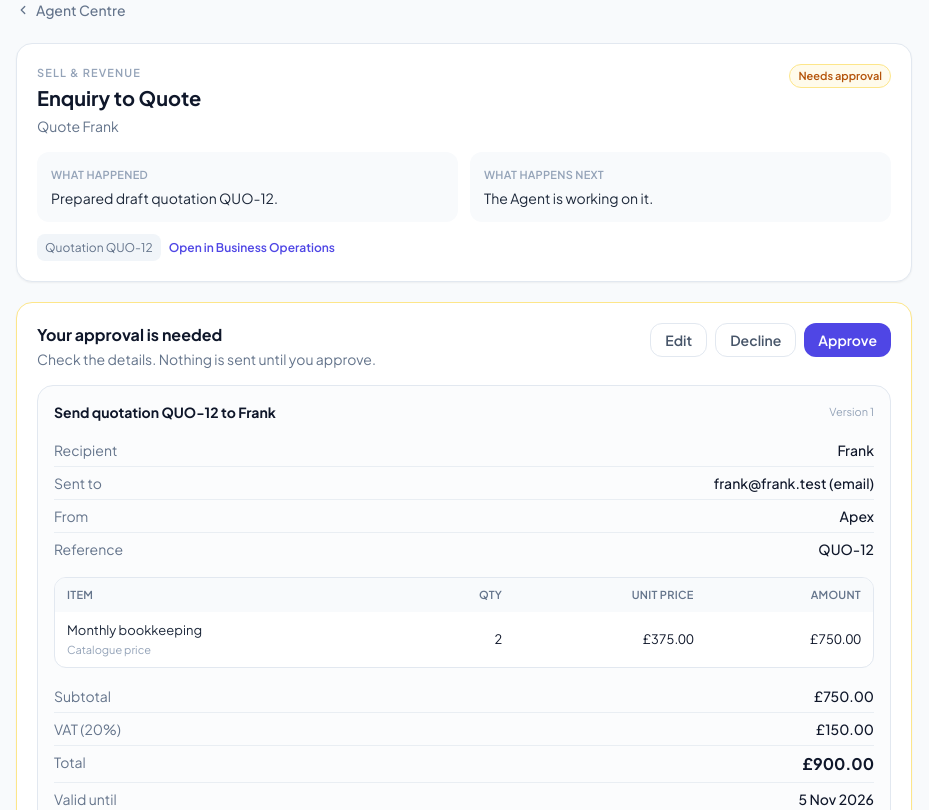
it: editing on the task page › offers Edit at the top beside Approve and Decline; editing replaces the document and hides Approve and Decline
This screenshot has width=929, height=810.
Click the button "Edit": (679, 340) [650, 323, 707, 357]
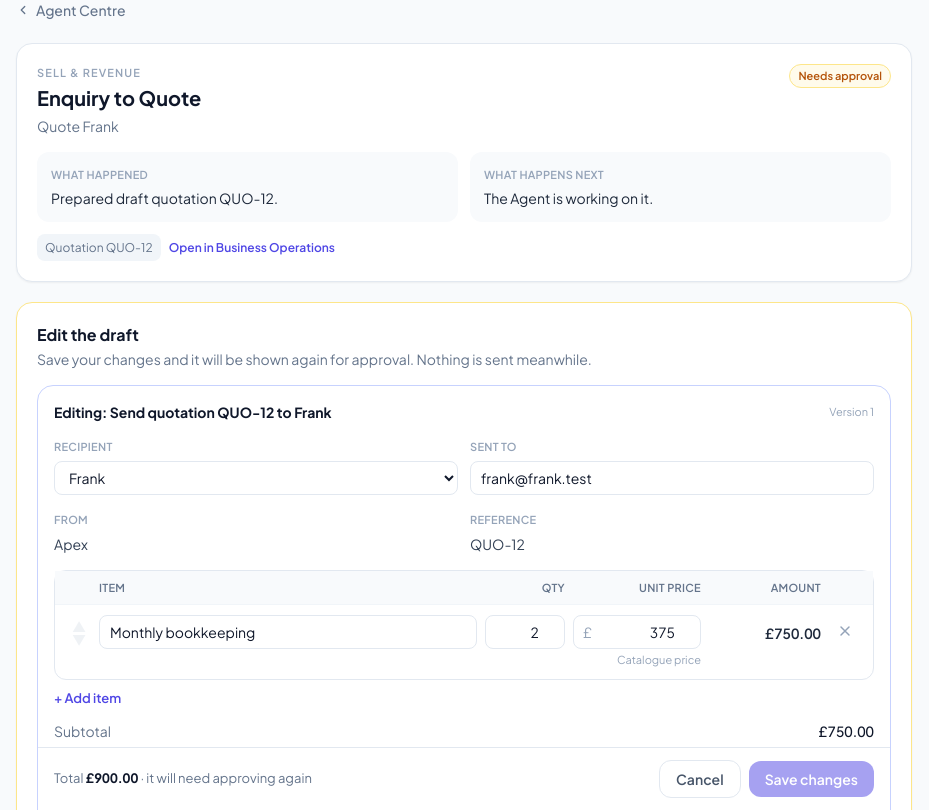
Now the button "Decline" is gone
// Cancel discards what was typed.
Replace the text in the number field named "Quantity" with "9": (525, 632) [485, 615, 565, 649]
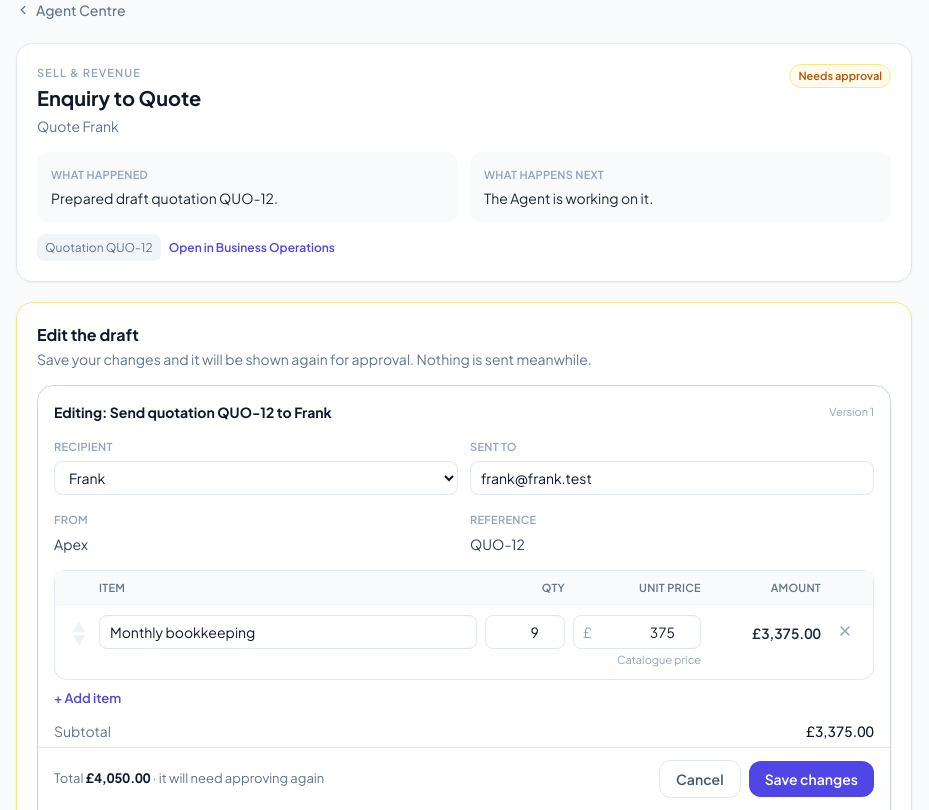
Click the button "Cancel": (700, 779) [659, 760, 741, 798]
(page scrolled)
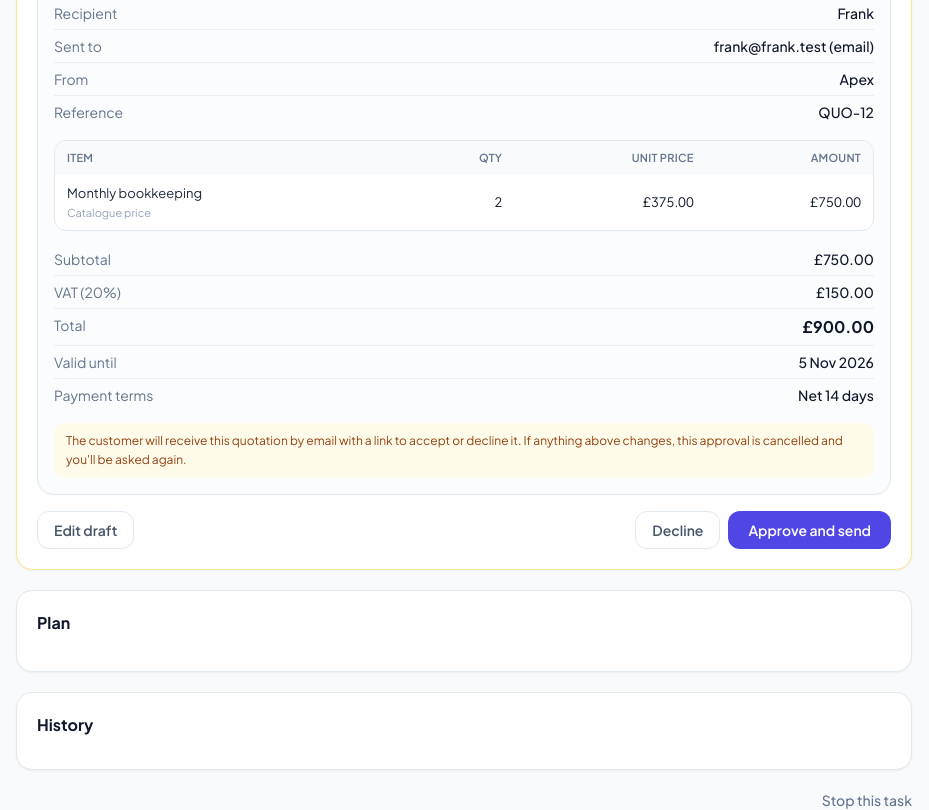
Now the button "Approve and send" is shown, box [728, 511, 891, 549]
Click the button "Edit draft": (86, 530) [37, 511, 134, 549]
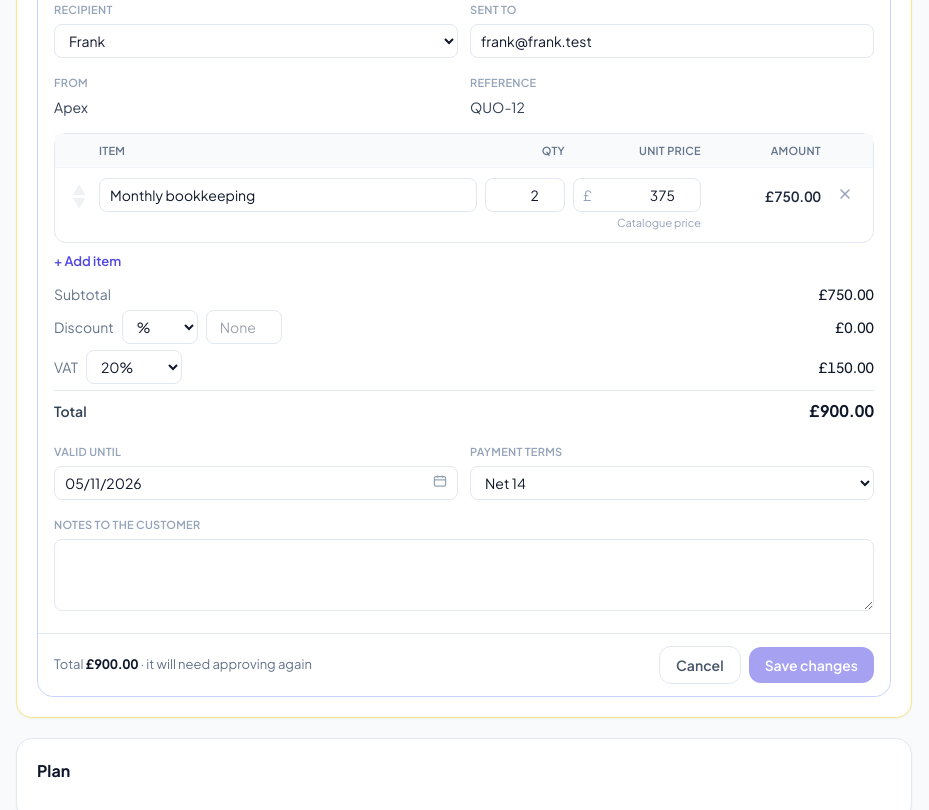
Now the number field named "Quantity" holds "2", box [485, 178, 565, 212]
